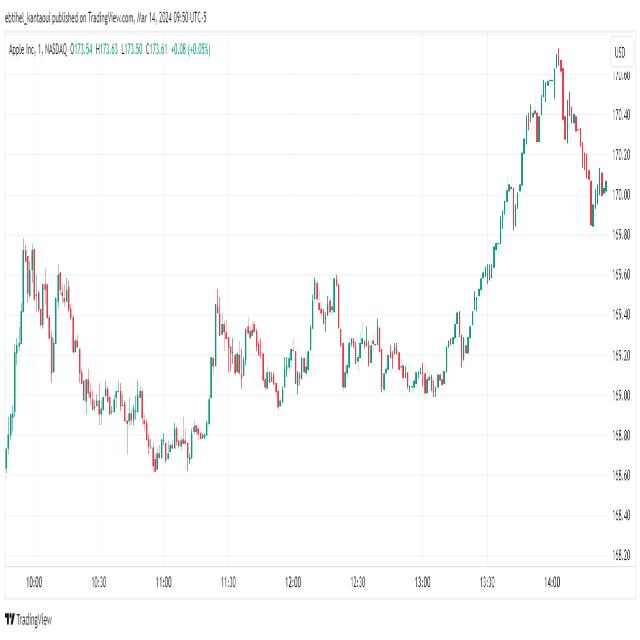Double-Top: (304, 268, 346, 348)
Triple-Bottom: (85, 371, 145, 435)
Triple-Top: (346, 313, 386, 374)
